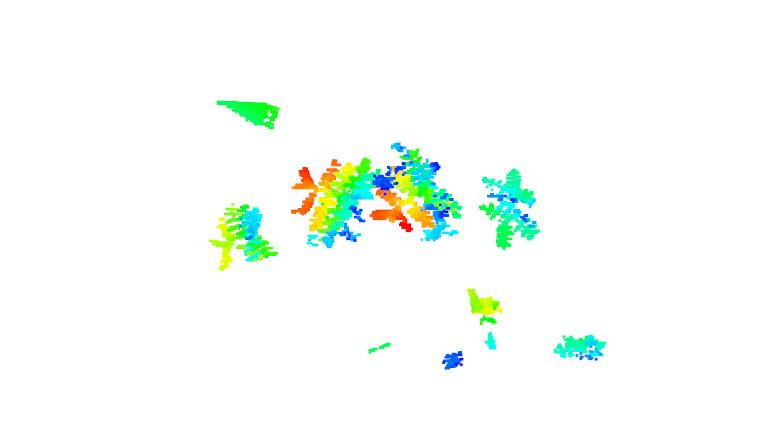chickpea: (372, 143, 462, 242), (288, 156, 378, 248), (478, 167, 540, 249), (205, 204, 278, 271), (463, 288, 505, 351), (549, 334, 609, 362)
